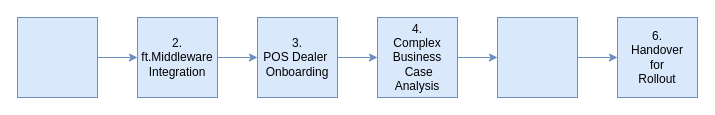
Some shapes in this 715 by 115 pixel diagram are drawn without their labels. Here are the shapes that lost their labels. From the top down, the box of each, then its label:
(16, 16, 98, 98): 1. Portal Registration
(496, 16, 578, 98): 5. Pilot Installation
